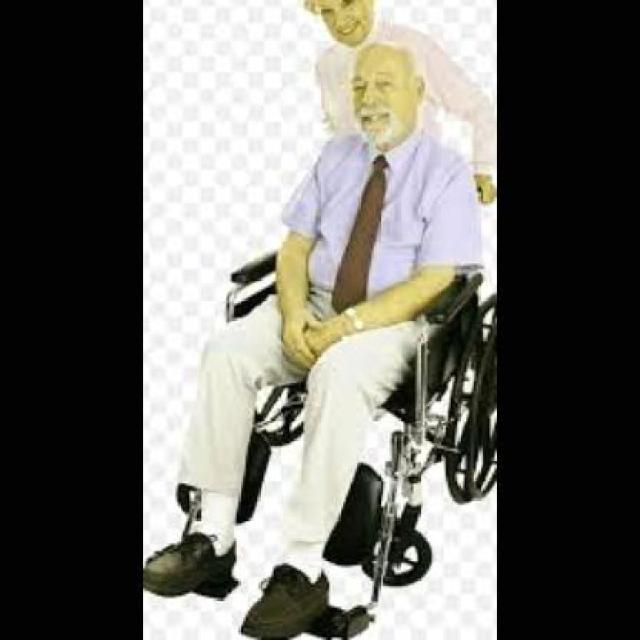wheelchairs: (206, 250, 495, 632)
